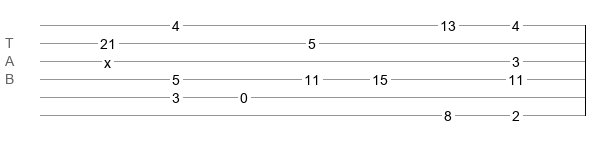0: (240, 90, 248, 100)
11: (304, 72, 320, 82), (508, 72, 524, 82)
13: (440, 18, 456, 28)
15: (372, 72, 388, 82)
2: (512, 108, 520, 118)
21: (100, 36, 116, 46)
3: (172, 90, 180, 100), (512, 54, 520, 64)
4: (172, 18, 180, 28), (512, 18, 520, 28)
5: (172, 72, 180, 82), (308, 36, 316, 46)
8: (444, 108, 452, 118)
x: (104, 55, 111, 63)
